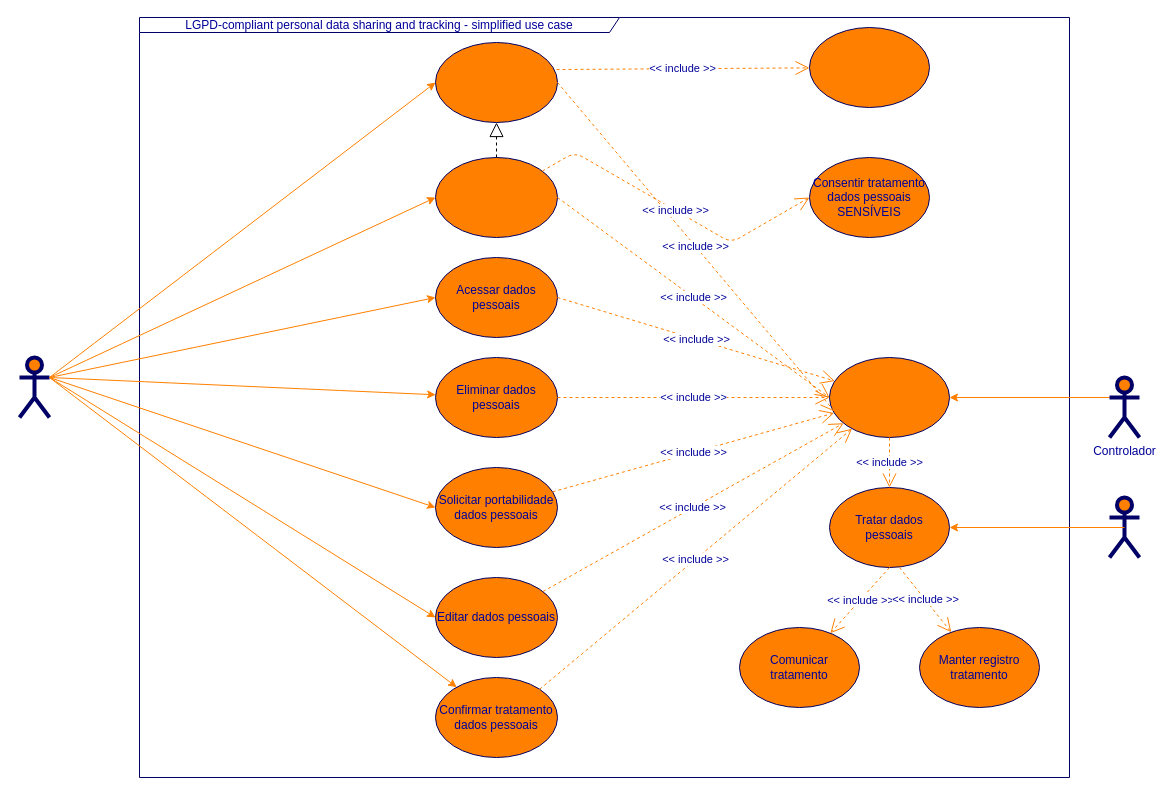
This 1173x795 diagram has some shape labels left out. Each missing label, with the centre of its shape:
"Comandar tratamento dados pessoais" goes at point (889, 397).
"Compartilhar dados pessoais" goes at point (496, 82).
"Compartilhar dados pessoais SENSÍVEIS" goes at point (496, 197).
"Consentir tratamento dados pessoais" goes at point (869, 67).
"Operador" goes at point (1124, 527).
"Titular" goes at point (34, 387).
